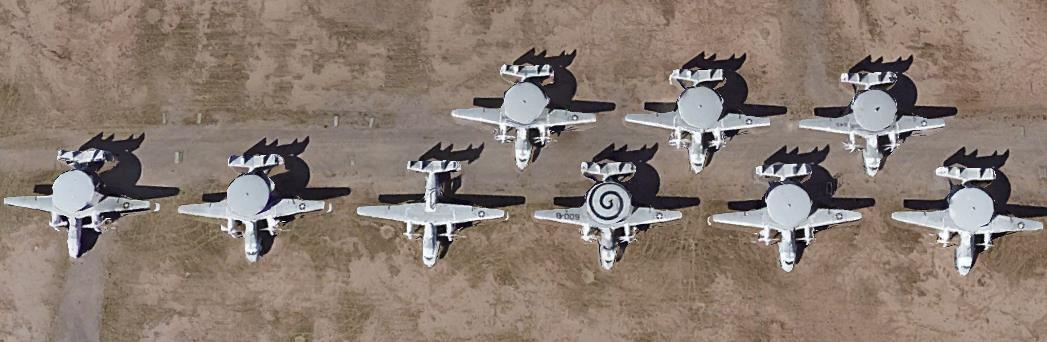E-3: (888, 152, 1047, 276), (350, 148, 511, 269), (444, 52, 603, 170), (707, 160, 868, 275), (176, 145, 333, 262), (799, 60, 951, 179), (530, 157, 691, 269), (4, 147, 158, 262), (624, 60, 775, 177)
